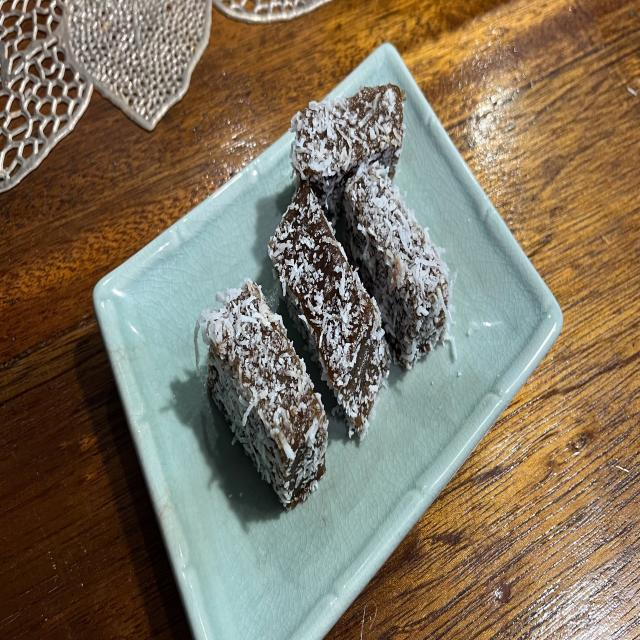kaswi: (269, 184, 390, 438), (195, 280, 328, 507), (344, 162, 452, 369), (290, 84, 405, 222)
